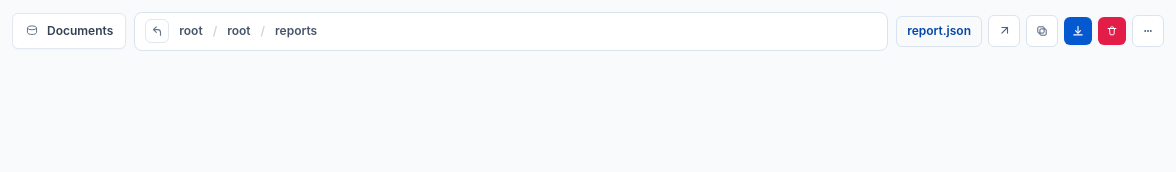
BrowserToolbar › keeps the selection More menu focused on secondary item actions
Click the button named "More".
click(1148, 31)  # box [1132,15,1164,47]
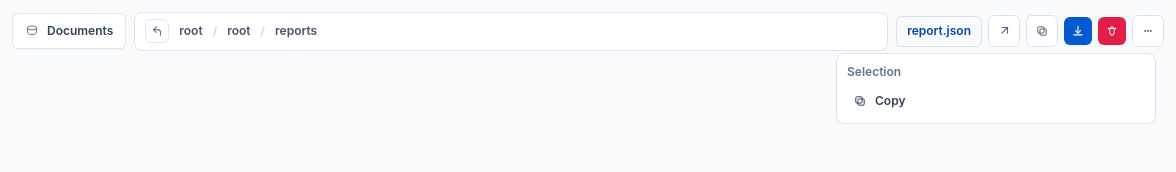
Result: the text "Selection" is shown at [847,64,901,79]
Result: the menu item "Copy" is shown at [843,84,1149,117]
